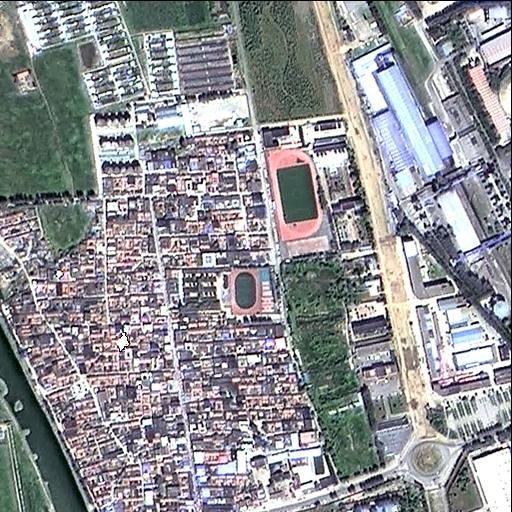school: (263, 147, 377, 259), (230, 264, 286, 321)
